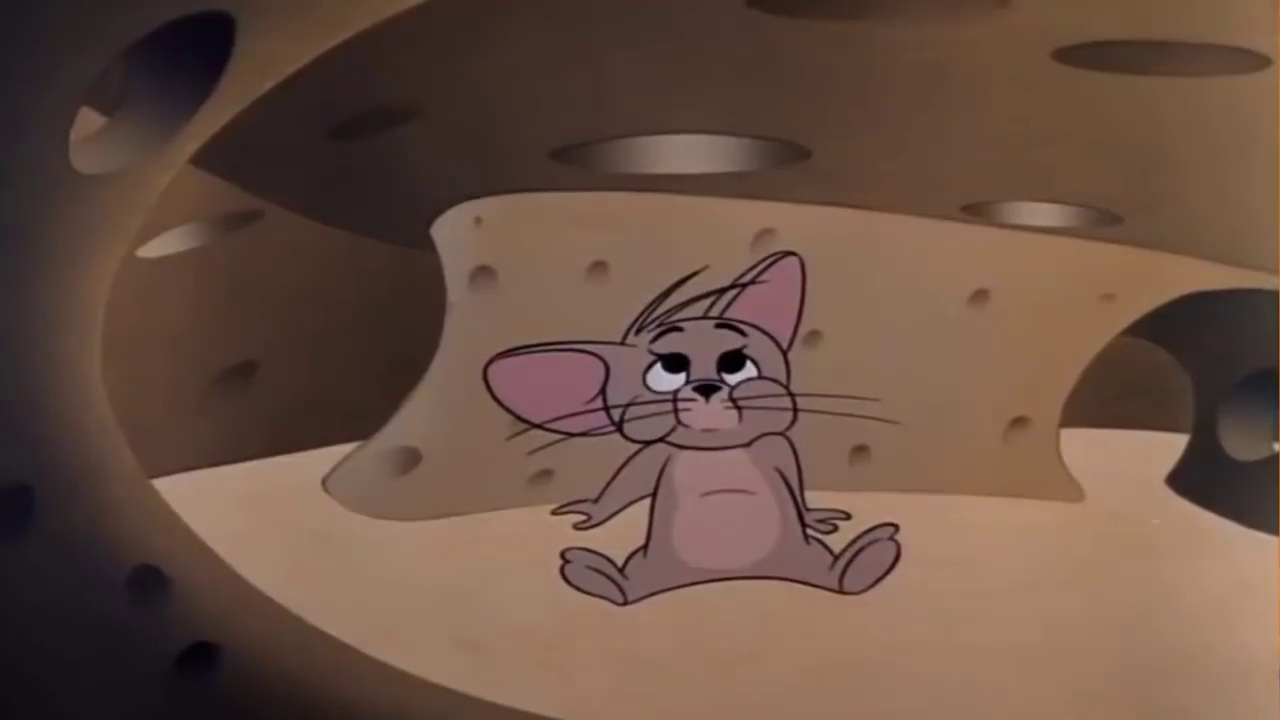face: (638, 321, 777, 447)
